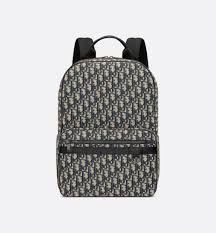backpack: (55, 34, 159, 197)
